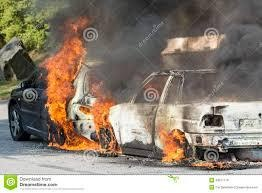fire: (41, 15, 122, 154), (154, 122, 188, 163)
